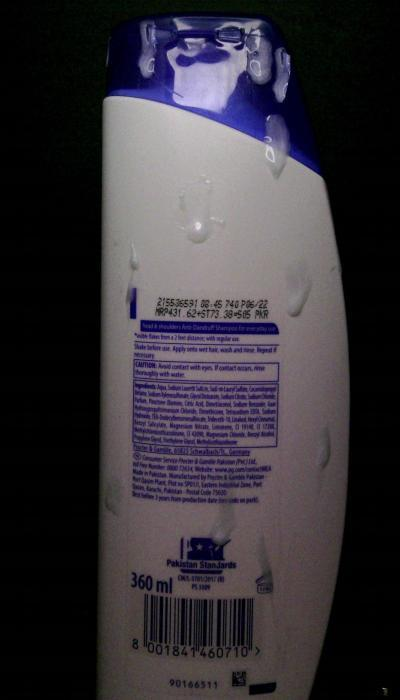pob_unacc: (242, 14, 295, 104), (177, 172, 227, 245), (206, 482, 247, 548), (261, 112, 303, 176), (131, 20, 172, 76), (311, 418, 341, 468), (284, 277, 318, 320)
